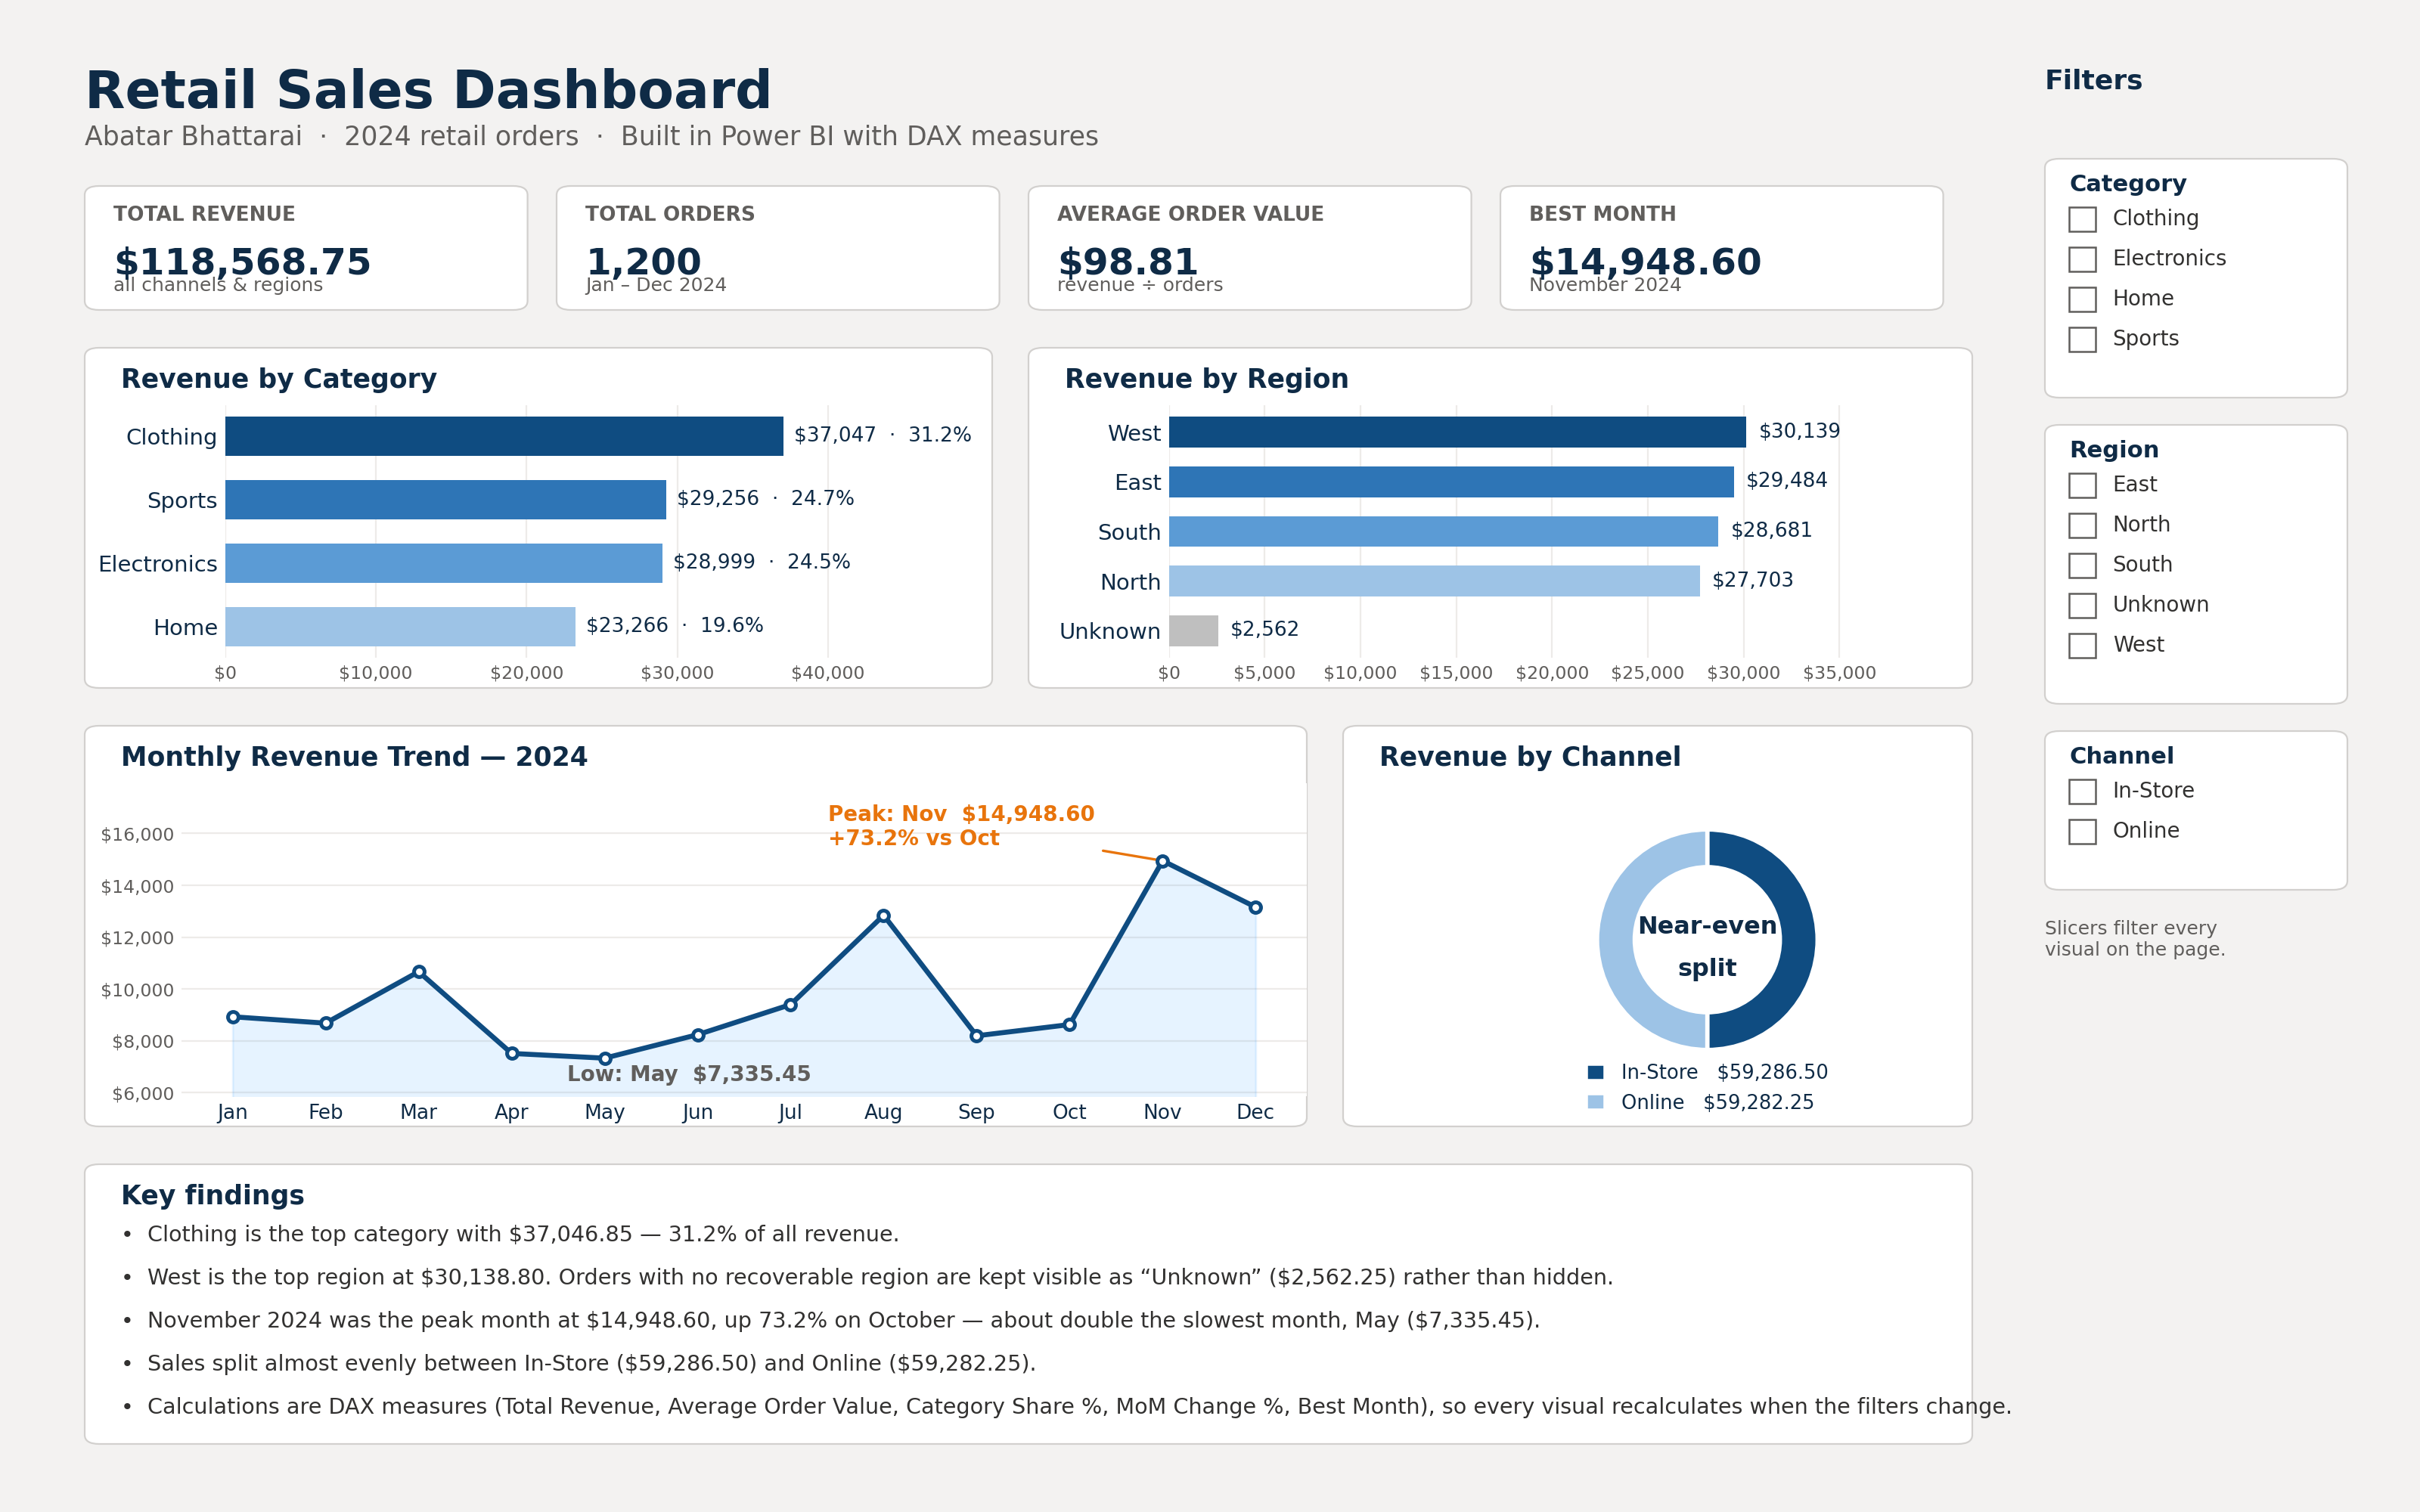

This screenshot's page, from the dashboard's own definition file:
{"tool":"powerbi","page":{"name":"Dashboard","canvas":[1280,720],"ordinal":0},"visuals":[{"type":"textbox","box":[20,8,980,46],"z":1000},{"type":"textbox","box":[20,54,980,26],"z":2000},{"type":"card","fields":{"Values":["Orders.Total Revenue"]},"box":[20,92,320,90],"z":3000},{"type":"card","fields":{"Values":["Orders.Total Orders"]},"box":[352,92,320,90],"z":4000},{"type":"card","fields":{"Values":["Orders.Average Order Value"]},"box":[684,92,320,90],"z":5000},{"type":"textbox","box":[1024,92,236,24],"z":6000},{"type":"clusteredBarChart","fields":{"Category":["Orders.category"],"Y":["Orders.Total Revenue"]},"box":[20,196,492,200],"z":7000},{"type":"clusteredBarChart","fields":{"Category":["Orders.region"],"Y":["Orders.Total Revenue"]},"box":[524,196,480,200],"z":8000},{"type":"slicer","fields":{"Values":["Orders.category"]},"box":[1024,124,236,180],"z":9000},{"type":"lineChart","fields":{"Category":["Orders.MonthStart"],"Y":["Orders.Total Revenue"]},"box":[20,410,640,290],"z":10000},{"type":"donutChart","fields":{"Category":["Orders.channel"],"Y":["Orders.Total Revenue"]},"box":[672,410,332,290],"z":11000},{"type":"slicer","fields":{"Values":["Orders.region"]},"box":[1024,316,236,220],"z":12000},{"type":"slicer","fields":{"Values":["Orders.channel"]},"box":[1024,548,236,152],"z":13000}]}

Visuals, with their boxes on the page's 1280x720 design canvas (x1, y1, x2, y2). These are canvas units, not pixel positions in the 2420x1512 screenshot, which may show the page scaled, cropped or inside an application window:
textbox: bbox=(20, 8, 1000, 54)
textbox: bbox=(20, 54, 1000, 80)
card - Orders.Total Revenue: bbox=(20, 92, 340, 182)
card - Orders.Total Orders: bbox=(352, 92, 672, 182)
card - Orders.Average Order Value: bbox=(684, 92, 1004, 182)
textbox: bbox=(1024, 92, 1260, 116)
clusteredBarChart - Orders.category x Orders.Total Revenue: bbox=(20, 196, 512, 396)
clusteredBarChart - Orders.region x Orders.Total Revenue: bbox=(524, 196, 1004, 396)
slicer - Orders.category: bbox=(1024, 124, 1260, 304)
lineChart - Orders.MonthStart x Orders.Total Revenue: bbox=(20, 410, 660, 700)
donutChart - Orders.channel x Orders.Total Revenue: bbox=(672, 410, 1004, 700)
slicer - Orders.region: bbox=(1024, 316, 1260, 536)
slicer - Orders.channel: bbox=(1024, 548, 1260, 700)
